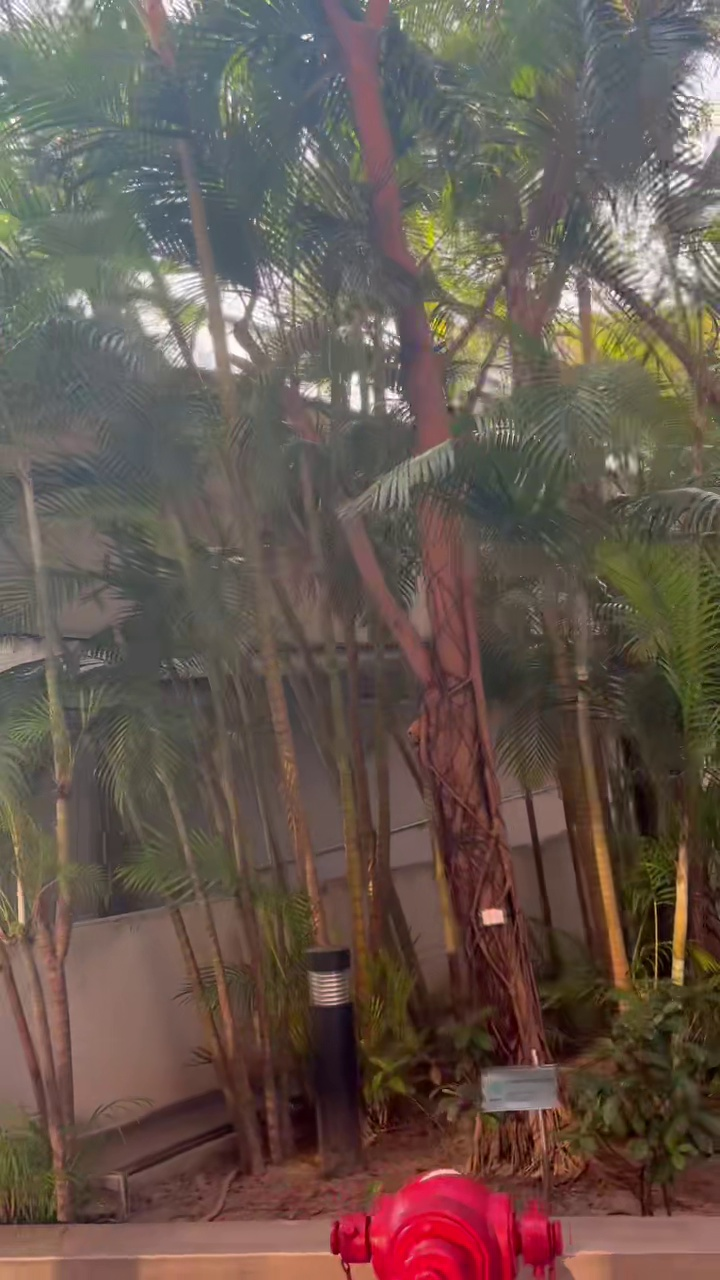Ficus benjamina: (322, 0, 546, 1064)
